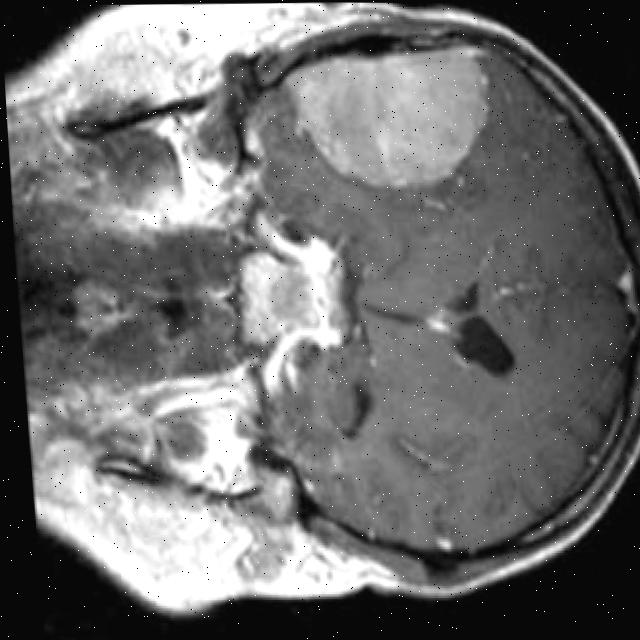Meningioma: (278, 41, 510, 195)
